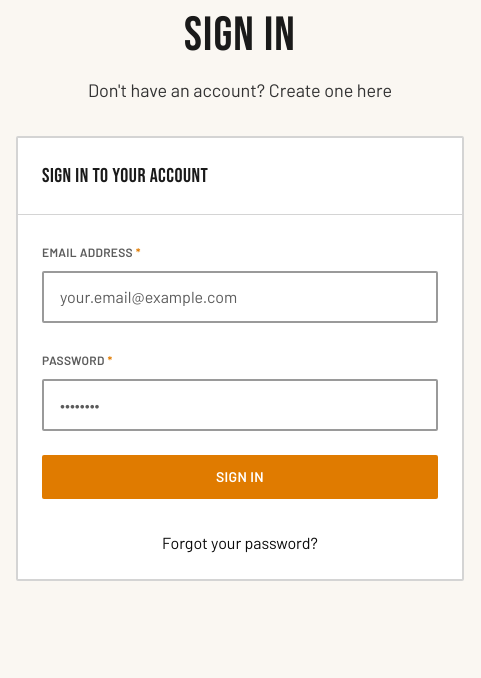
LoginPage › Form Submission › should show generic error message when error has no message
Type "test@example.com" into the field labelled "Email Address *" at (240, 297), box [42,271,438,323]
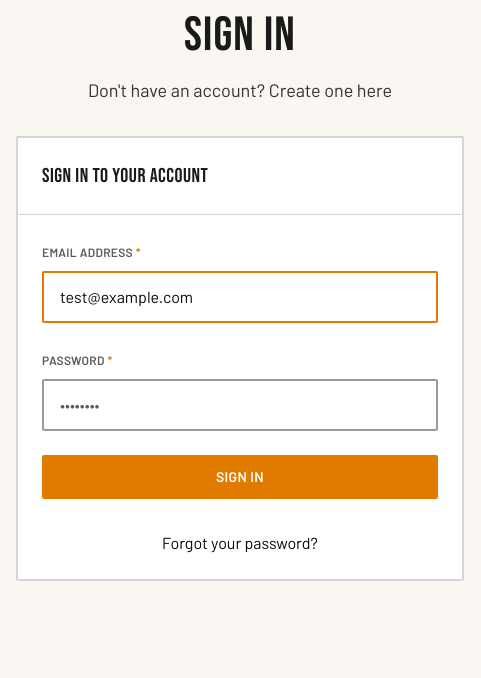
Type "password123" into the password field labelled "Password *" at (240, 405), box [42,379,438,431]
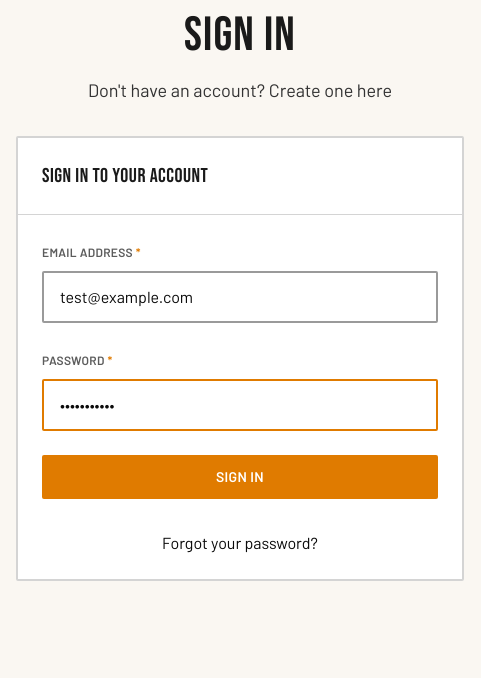
Click the button "Sign In" at (240, 477), box [42,455,438,499]
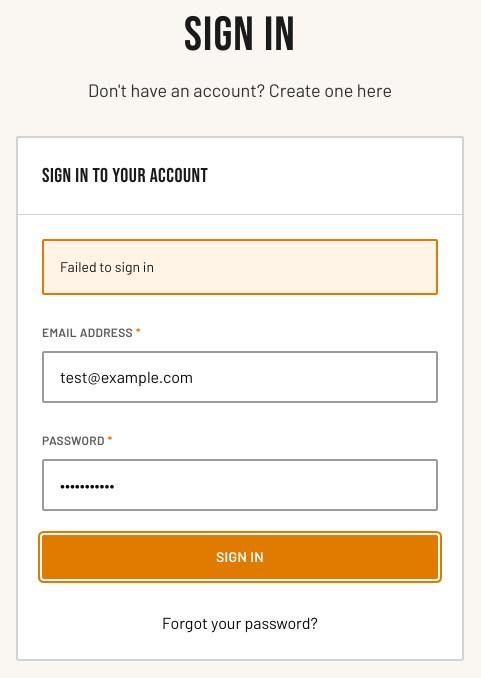
Expected: the text "Failed to sign in" is shown, [60,258,154,275]
